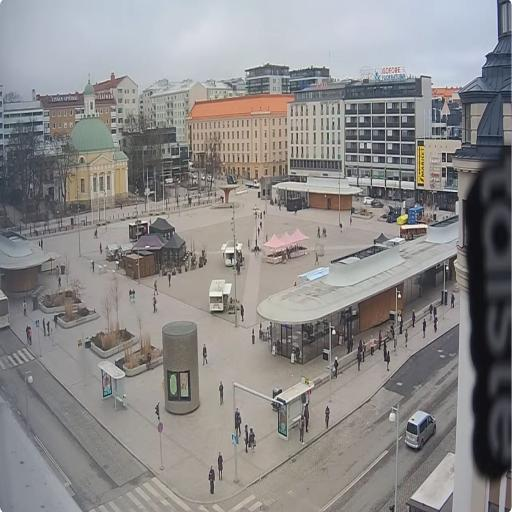bus: (0, 292, 13, 334)
car: (403, 407, 440, 451), (363, 195, 374, 206), (372, 199, 384, 209), (208, 173, 216, 184), (189, 172, 197, 180), (200, 174, 207, 181)
delivery: (245, 178, 261, 190), (227, 174, 237, 184), (188, 160, 196, 170)
